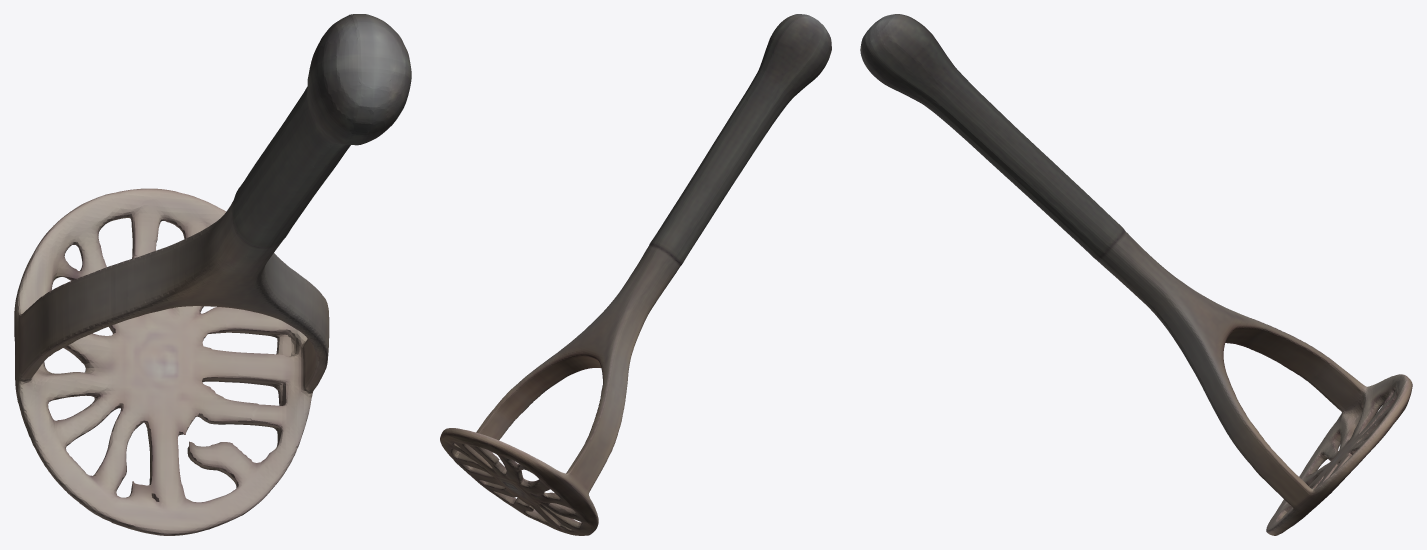
Rendered from frame_0037_source_000037_object.glb.
3 views of the same model, side by side, from view 1: azimuth 30°, elevation 25°; view 2: azimuth 150°, elevation 25°; view 3: azimuth 270°, elevation 25° (orthographic). The views are drawn at different scales.
Visible parts, largest first — view 1: world; view 2: world; view 3: world.
Boxes of the visible parts, left/top/right/bottom form: world: left=14, top=14, right=411, bottom=535; world: left=440, top=14, right=831, bottom=535; world: left=860, top=14, right=1412, bottom=535.
Bounding box in the file's own units: 0.094 × 0.2016 × 0.2156.
